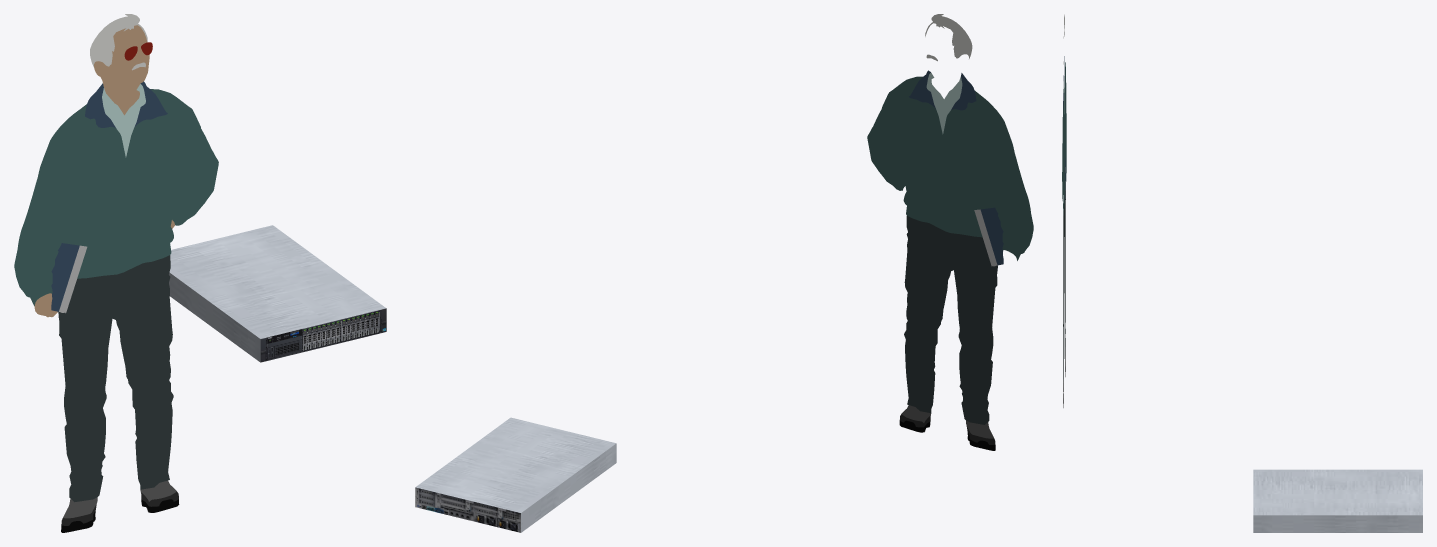
File: Dellr730.glb
3 views of the same model, side by side, from view 1: azimuth 30°, elevation 25°; view 2: azimuth 150°, elevation 25°; view 3: azimuth 270°, elevation 25° (orthographic). The views are drawn at different scales.
Visible parts, largest first — view 1: Steve, root; view 2: Steve, root; view 3: root, Steve.
Boxes of the visible parts, bbox=[...] form: Steve: bbox=[14, 14, 218, 532]; root: bbox=[169, 225, 386, 362]; Steve: bbox=[867, 14, 1033, 450]; root: bbox=[415, 417, 616, 532]; root: bbox=[1253, 469, 1422, 532]; Steve: bbox=[1062, 14, 1066, 407].
Bounding box in the file's own units: 1.75 × 1.69 × 1.47.
Materials: 14 (3 with a texture image).
